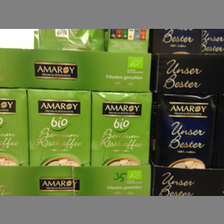coffee: (28, 89, 91, 166), (152, 93, 215, 170), (91, 91, 151, 166)
